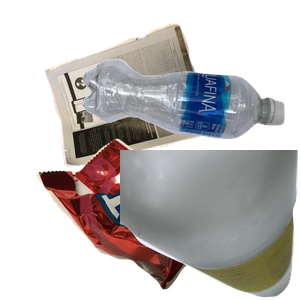glass: (120, 150, 300, 300)
paper: (42, 21, 249, 181)
plastic: (80, 56, 300, 187)
trash: (34, 136, 253, 300)
